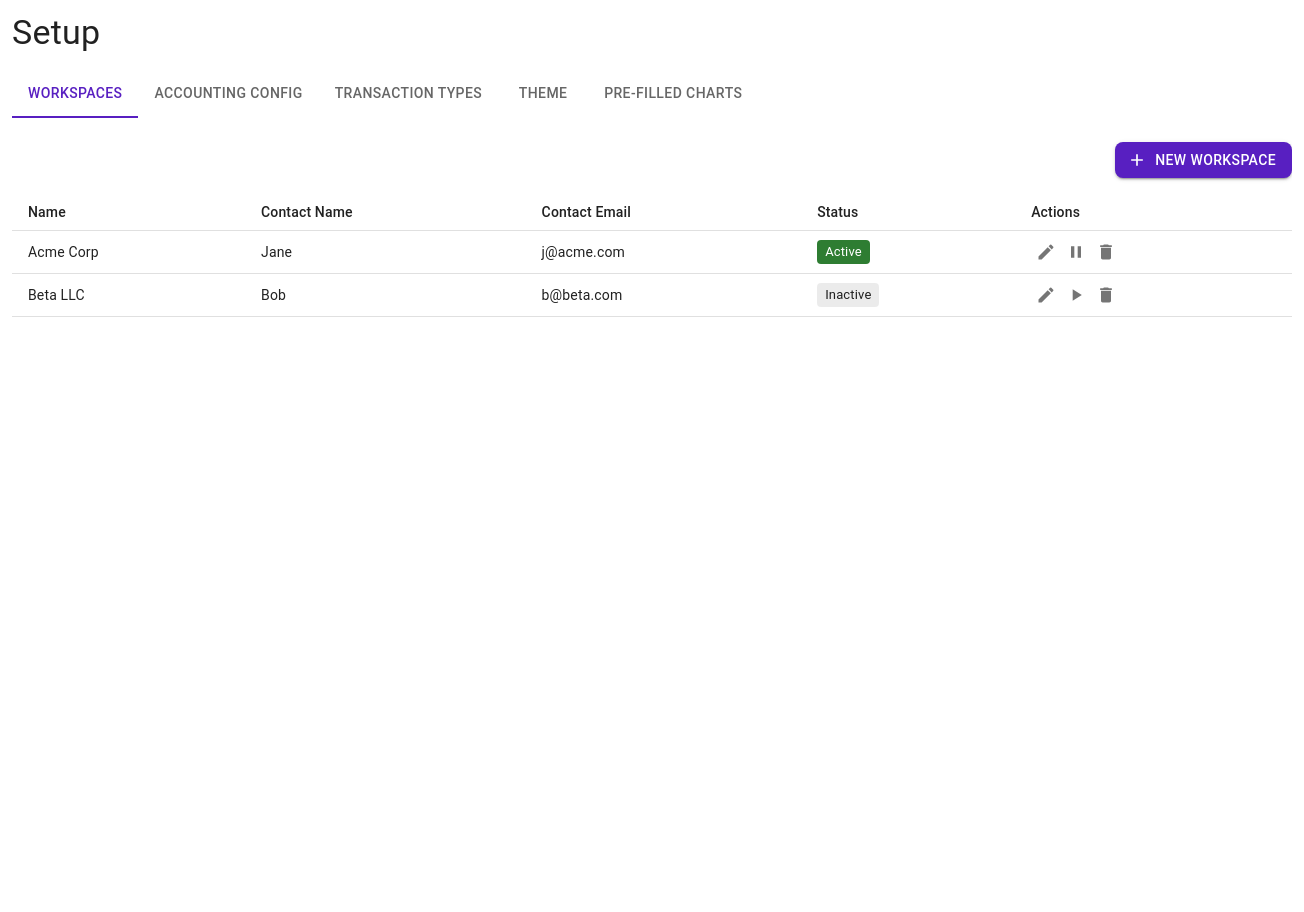
Test: SetupPage — tab navigation › switches to Accounting Config tab
Click the tab with test id "tab-accounting-config". click: (229, 94)
box: [138, 70, 319, 118]
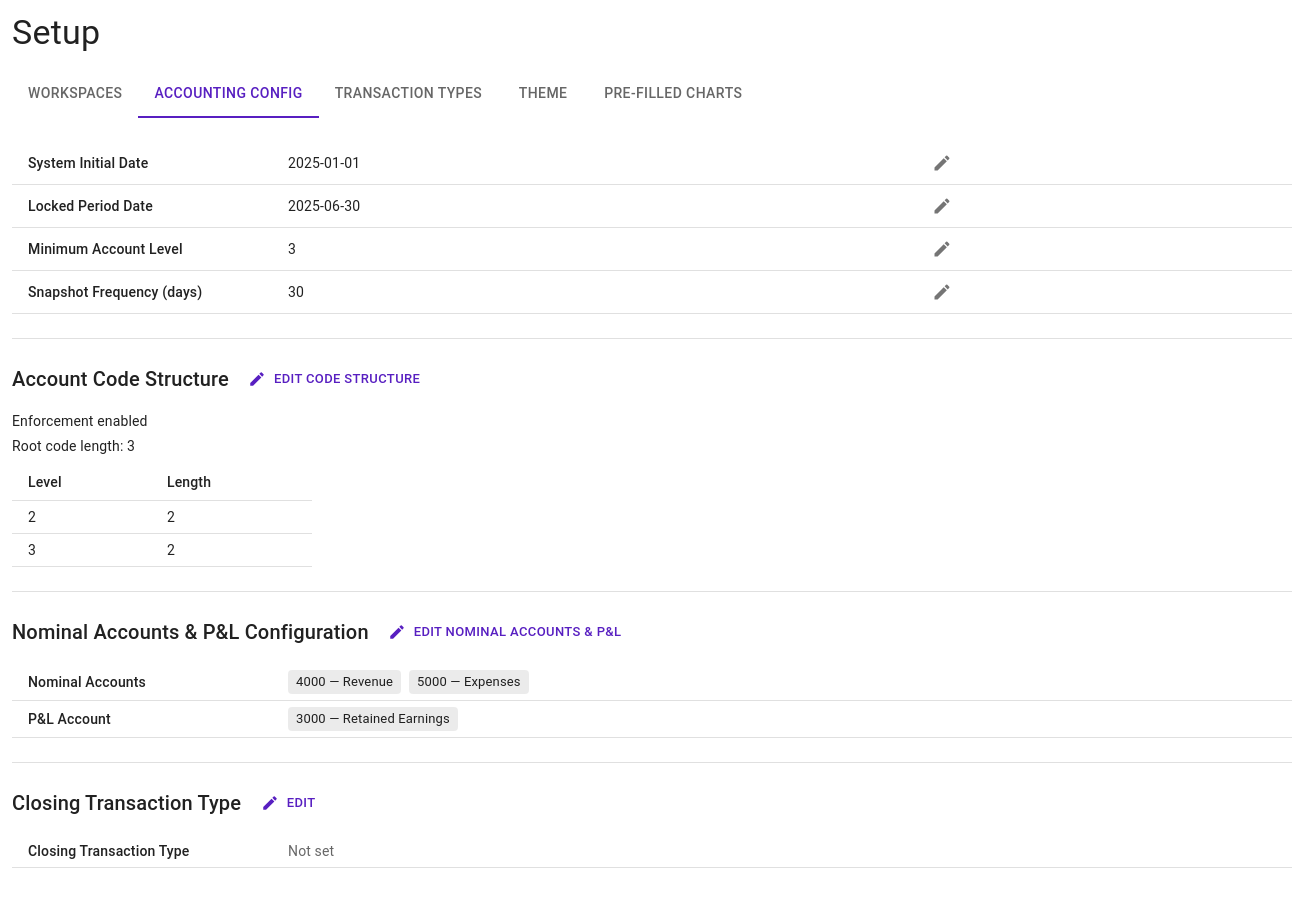
Now the element with test id "accounting-config-panel" is shown
